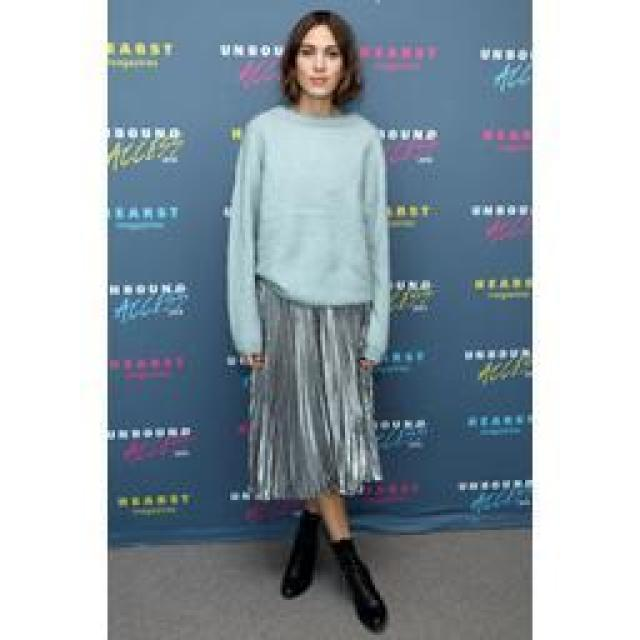skirt: (245, 272, 385, 506)
sweater: (225, 105, 390, 365)
